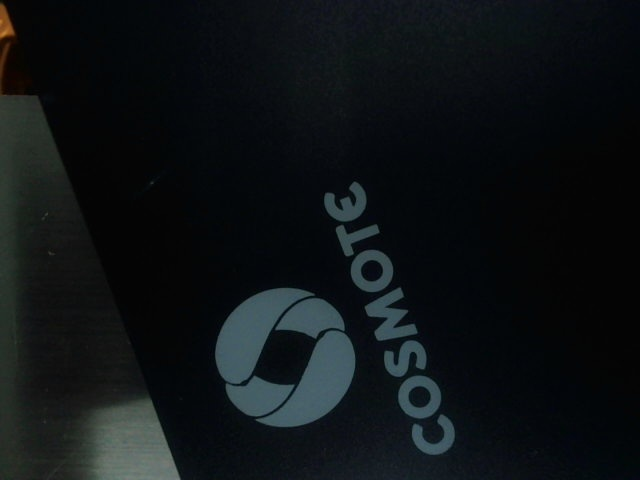AU_COSMOTE: (202, 166, 460, 458)
